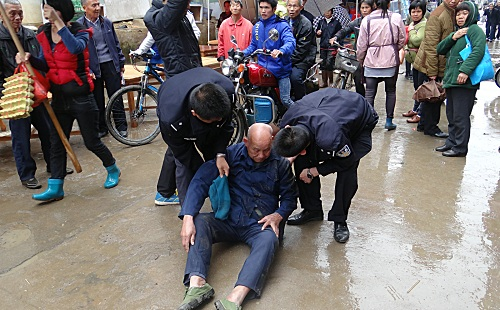10+: (7, 4, 500, 233)
down: (185, 117, 305, 295)
